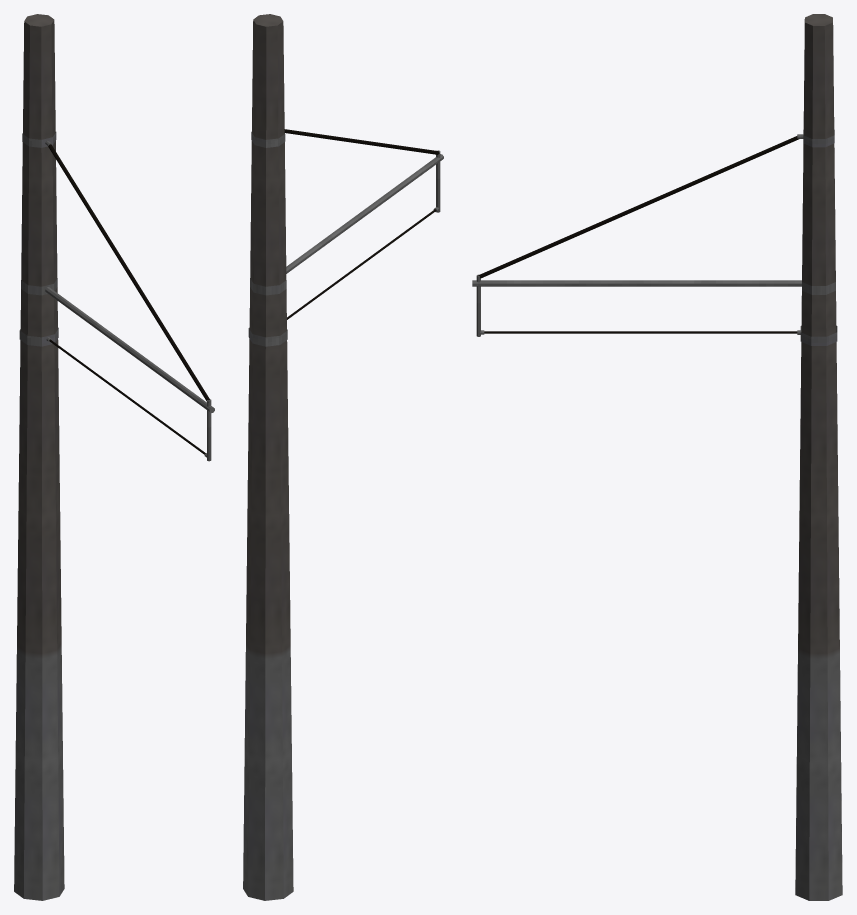
The model's file is pole_s_s.obj.
3 views of the same model, side by side, from view 1: azimuth 30°, elevation 25°; view 2: azimuth 150°, elevation 25°; view 3: azimuth 270°, elevation 25° (orthographic).
Parts seen in each view (by area): view 1: RAIL_BASE; view 2: RAIL_BASE; view 3: RAIL_BASE.
Boxes of the visible parts, x1=… form: RAIL_BASE: x1=14, y1=14, x2=214, y2=900; RAIL_BASE: x1=243, y1=14, x2=443, y2=900; RAIL_BASE: x1=472, y1=14, x2=842, y2=900.
Bounding box in the file's own units: 0.4642 × 9.47 × 3.65.
2 materials, 2 textured.
